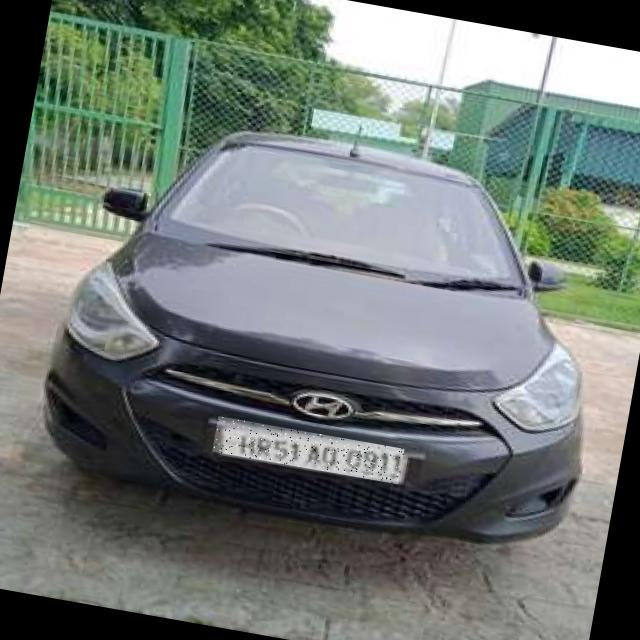Plate: (213, 418, 405, 486)
